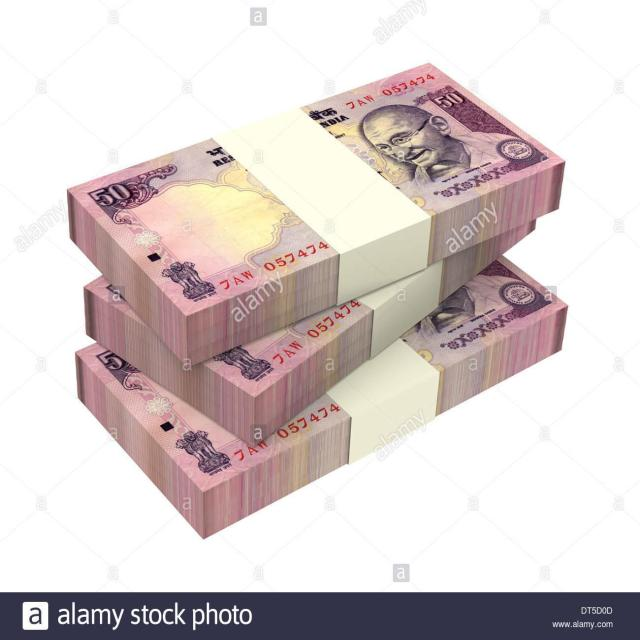50IndianRupees: (67, 55, 563, 306)
